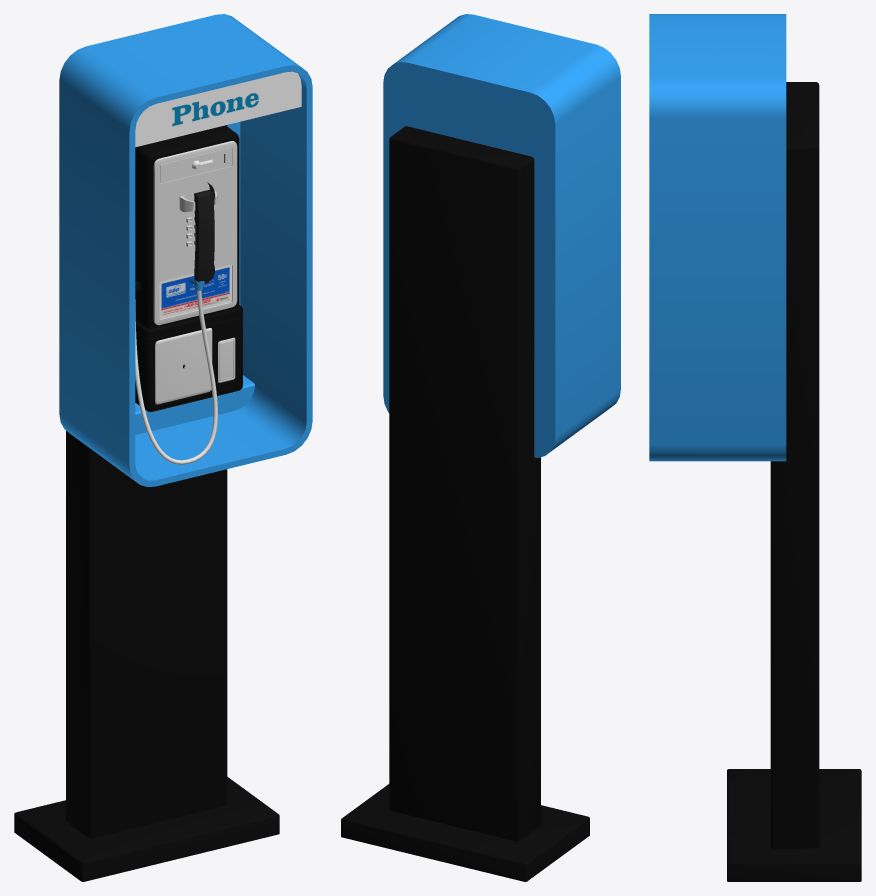
The model's file is phone.glb.
3 renders of one model, left to right at view 1: azimuth 30°, elevation 25°; view 2: azimuth 150°, elevation 25°; view 3: azimuth 270°, elevation 25°, orthographic. The views are drawn at different scales.
Parts seen in each view (by area): view 1: Object_6, Object_7, Object_8, Object_5, Object_4, Object_2; view 2: Object_6, Object_7; view 3: Object_7, Object_6.
Boxes of the visible parts, left/top/right/bottom form: Object_6: left=14, top=125, right=279, bottom=881; Object_7: left=59, top=14, right=312, bottom=487; Object_8: left=135, top=141, right=237, bottom=464; Object_5: left=135, top=71, right=301, bottom=147; Object_4: left=159, top=264, right=231, bottom=319; Object_2: left=189, top=182, right=214, bottom=285; Object_6: left=341, top=126, right=589, bottom=881; Object_7: left=383, top=14, right=620, bottom=457; Object_7: left=649, top=14, right=786, bottom=461; Object_6: left=727, top=82, right=861, bottom=881.
Bounding box in the file's own units: 0.4 × 1.55 × 0.3795.
Materials: 8 (2 with a texture image).
